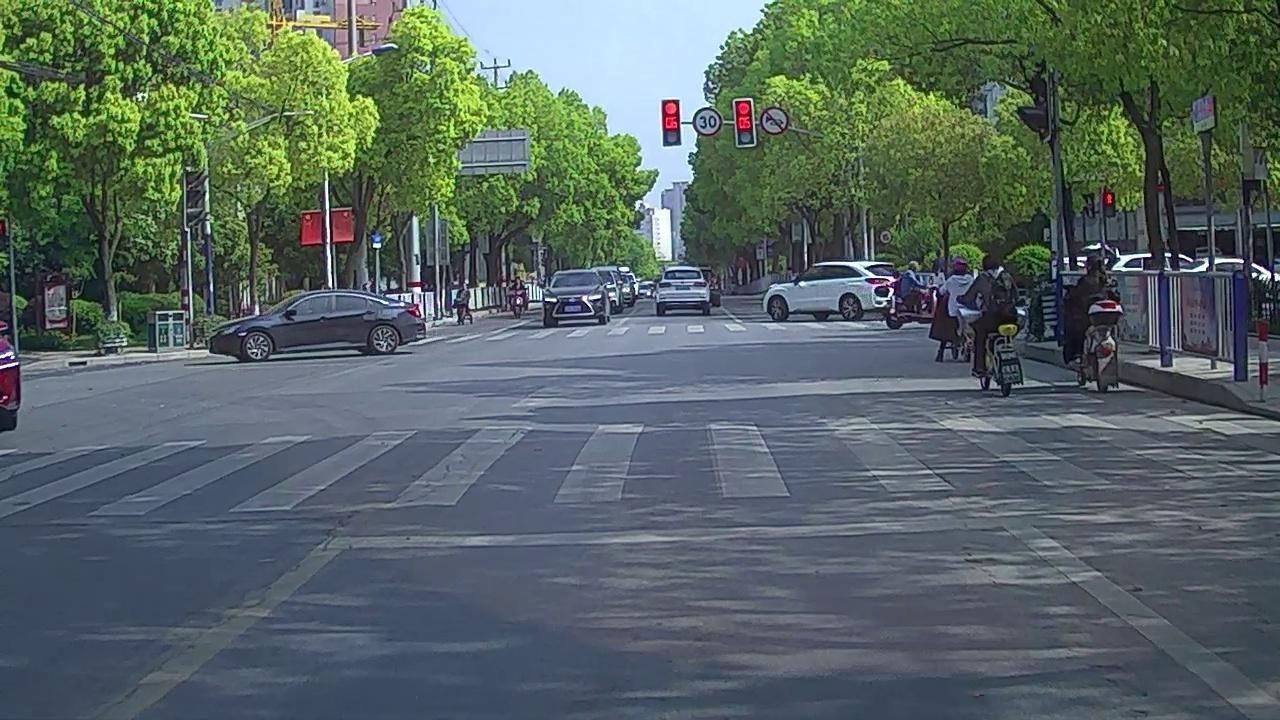traffic_light: (735, 100, 755, 148), (663, 101, 681, 148)
